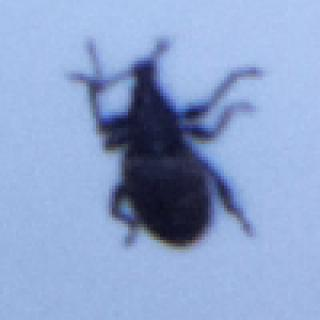bvw: (61, 35, 262, 248)
